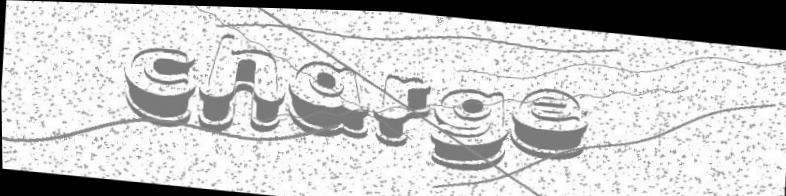a: (284, 54, 373, 139)
c: (120, 43, 199, 130)
e: (507, 81, 591, 161)
g: (426, 80, 511, 172)
h: (195, 29, 289, 138)
r: (367, 68, 432, 148)
